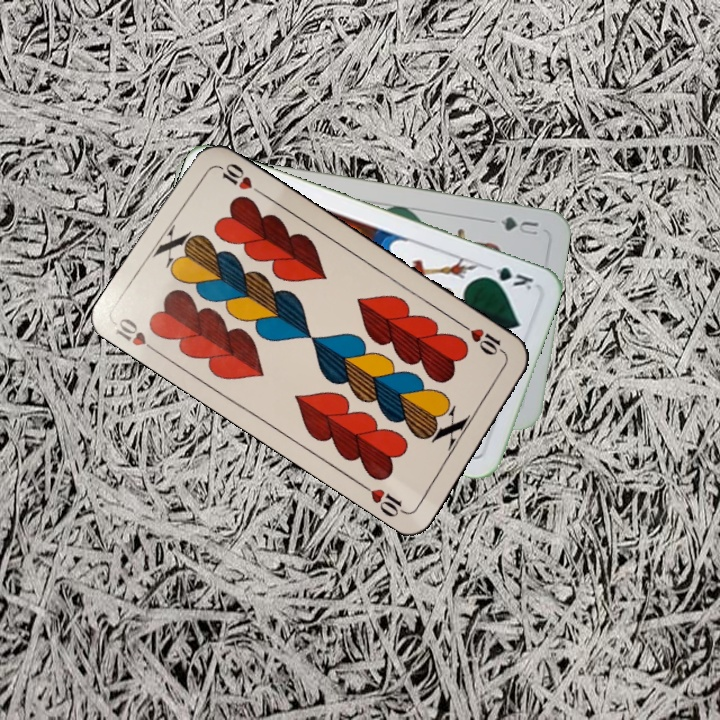GK: (478, 263, 536, 293)
GU: (496, 212, 542, 238)
H10: (111, 314, 164, 358), (458, 320, 510, 360)
